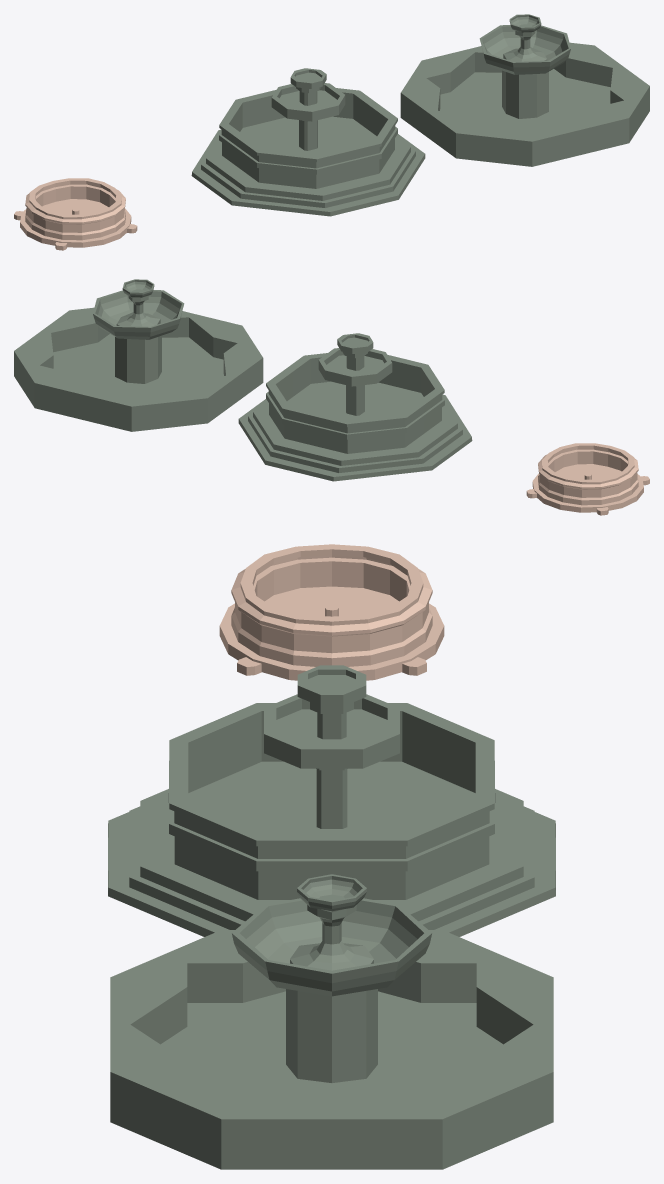
Rendered from Fountain1.fbx.
3 renders of one model, top to bottom at view 1: azimuth 30°, elevation 25°; view 2: azimuth 150°, elevation 25°; view 3: azimuth 270°, elevation 25°, orthographic. The views are drawn at different scales.
Parts seen in each view (by area): view 1: Cube.001, Cube, Circle; view 2: Cube.001, Cube, Circle; view 3: Cube.001, Cube, Circle.
Part boxes in pixels (x1,y1,x2,y2): Cube.001: [400, 14, 649, 166]; Cube: [191, 68, 425, 216]; Circle: [14, 178, 137, 250]; Cube.001: [14, 279, 263, 431]; Cube: [238, 333, 472, 481]; Circle: [526, 443, 649, 515]; Cube.001: [110, 874, 553, 1169]; Cube: [108, 665, 555, 936]; Circle: [219, 544, 444, 680].
Size of the model in its own units: 1225 by 184 by 399.
